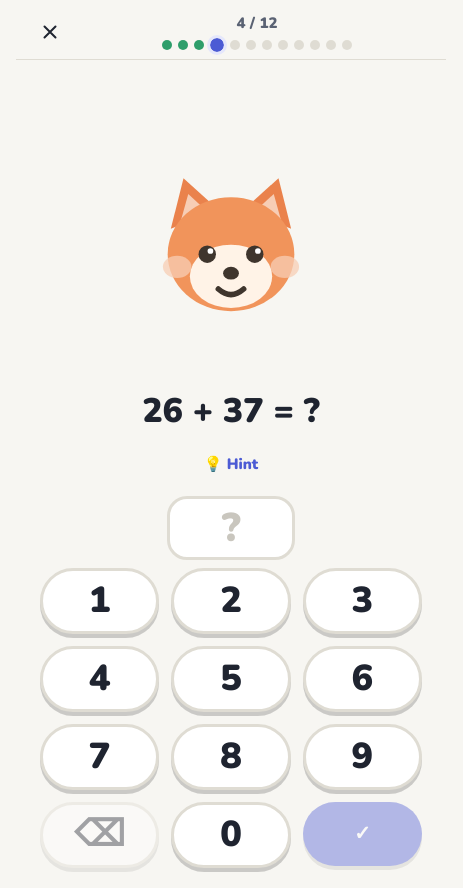
Test: QuestionScreen — Hint harus benar-benar menolong › Hint 26 + 37 menampilkan 26 dan 37, bukan contoh 47+38=85
The image size is (463, 888).
Click the button "💡 Hint". click: (231, 464)
box: [188,440,274,488]
Wait 900 ms
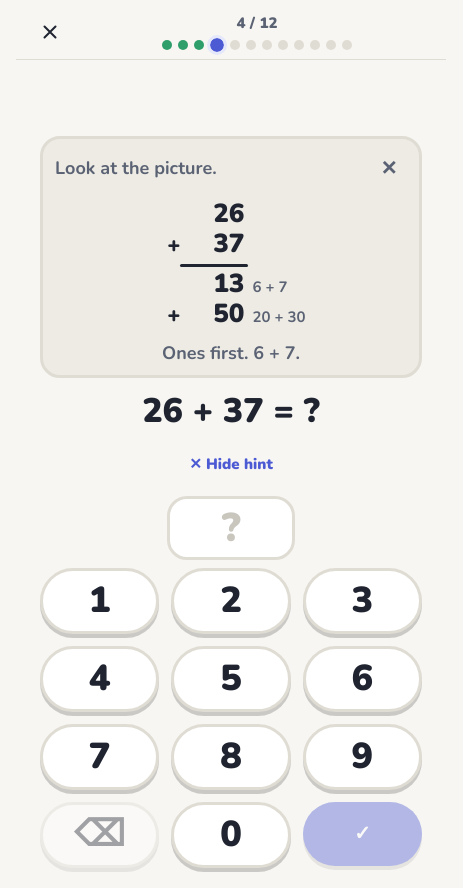
expect the text "Ones first. 6 + 7." is shown: met, box [162,340,300,366]
expect the element named "26 plus 37" is shown: met, box [156,199,306,332]
expect the text "13" is shown: met, box [213,266,244,301]
